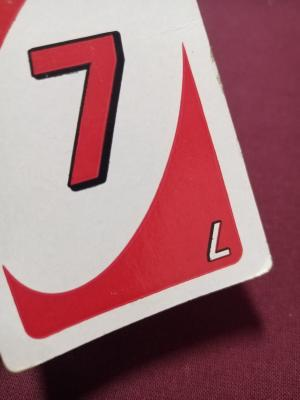num_7: (199, 213, 236, 265)
